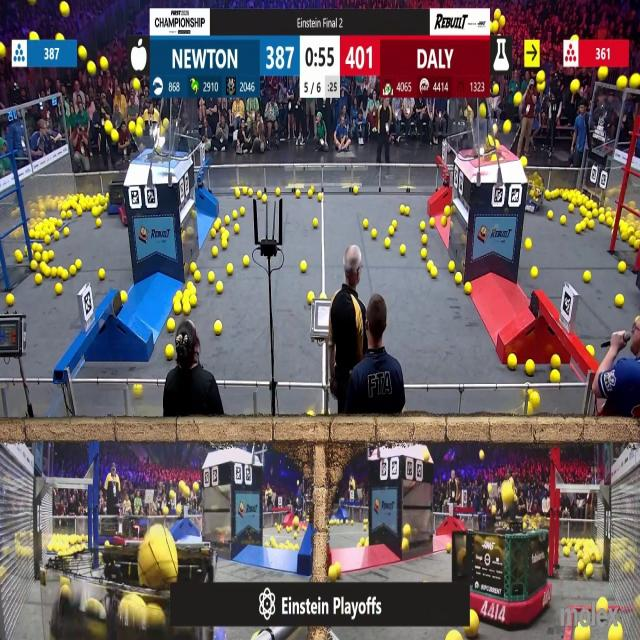ball_airborne: (501, 481, 513, 504), (598, 67, 608, 80), (630, 74, 639, 88), (619, 75, 628, 88), (61, 2, 70, 15), (422, 448, 430, 462), (515, 94, 523, 107), (78, 46, 86, 59), (101, 58, 108, 72), (570, 80, 578, 92), (89, 62, 97, 74), (503, 119, 510, 132), (130, 120, 137, 133), (480, 104, 487, 117), (105, 119, 112, 132), (491, 23, 499, 34), (111, 131, 118, 143), (536, 72, 544, 82), (0, 43, 6, 56), (183, 486, 190, 497), (30, 32, 38, 41), (136, 127, 143, 137), (492, 86, 499, 96), (134, 78, 140, 89), (176, 503, 182, 514), (536, 83, 544, 91), (522, 158, 528, 168), (192, 483, 198, 493), (480, 451, 486, 461), (164, 505, 170, 515), (153, 110, 159, 120), (488, 138, 495, 146), (137, 118, 144, 126), (57, 34, 64, 42), (494, 9, 500, 18), (492, 126, 498, 135), (500, 15, 505, 25), (170, 491, 176, 499), (492, 505, 497, 514), (164, 118, 169, 126), (488, 484, 492, 494), (495, 140, 500, 148), (144, 110, 148, 120), (29, 0, 36, 5), (492, 154, 496, 162), (162, 128, 166, 136)
ball_ground: (328, 565, 338, 580), (608, 628, 620, 640), (530, 392, 540, 406), (574, 628, 586, 639), (552, 354, 561, 368), (551, 371, 561, 383), (510, 354, 518, 369), (526, 360, 534, 374), (166, 346, 174, 360), (598, 598, 607, 610), (617, 293, 625, 306), (586, 564, 594, 577), (40, 264, 48, 277), (402, 525, 410, 537), (70, 265, 78, 277), (62, 586, 70, 598), (168, 319, 175, 332), (214, 321, 221, 334), (584, 272, 592, 283), (182, 305, 190, 316), (620, 263, 627, 275), (6, 293, 13, 305), (531, 267, 538, 279), (455, 273, 462, 285), (464, 282, 471, 294), (189, 294, 196, 306), (35, 274, 42, 286), (31, 262, 38, 274), (401, 538, 408, 550), (595, 552, 602, 564), (420, 249, 428, 259), (174, 304, 182, 314), (208, 273, 215, 284), (15, 251, 22, 262), (525, 239, 532, 250), (62, 270, 69, 281), (216, 282, 222, 294), (120, 290, 126, 302), (99, 270, 106, 280), (243, 256, 250, 266), (449, 263, 456, 273), (299, 263, 306, 273), (226, 265, 232, 276), (50, 268, 56, 279), (76, 258, 82, 269), (628, 238, 636, 246), (34, 251, 41, 260), (57, 284, 63, 294), (399, 245, 405, 255), (308, 292, 314, 302), (193, 272, 199, 282), (212, 246, 218, 256), (370, 230, 376, 240), (430, 269, 436, 279), (313, 218, 319, 228), (189, 264, 195, 274), (221, 240, 227, 250), (526, 406, 532, 416), (48, 250, 54, 260), (577, 561, 583, 571), (42, 251, 48, 261), (214, 219, 220, 229), (606, 217, 612, 227), (587, 208, 593, 218), (584, 218, 590, 228), (182, 294, 188, 304), (445, 207, 451, 216), (64, 229, 70, 238), (422, 236, 428, 245), (211, 230, 217, 239), (386, 226, 392, 235), (579, 207, 585, 216), (588, 346, 594, 355), (564, 548, 570, 557), (427, 262, 433, 271), (599, 214, 605, 223), (76, 207, 82, 216), (592, 208, 598, 217), (547, 210, 552, 220), (575, 223, 580, 233), (363, 218, 368, 228), (186, 282, 192, 290), (240, 208, 246, 216), (236, 189, 242, 197), (589, 220, 595, 228), (429, 218, 435, 226), (93, 208, 99, 216), (176, 290, 182, 298), (317, 192, 323, 200), (67, 210, 73, 218), (256, 190, 262, 198), (222, 232, 228, 240), (385, 239, 390, 248), (421, 221, 426, 230), (399, 206, 404, 215), (443, 216, 448, 225), (406, 207, 411, 216), (544, 189, 549, 198), (568, 205, 574, 212), (276, 188, 282, 195), (320, 292, 326, 299), (308, 412, 314, 419), (561, 216, 566, 224), (224, 216, 229, 224), (97, 219, 102, 227), (234, 211, 239, 219), (309, 190, 314, 198), (392, 219, 397, 227), (248, 188, 253, 196), (56, 233, 61, 241), (359, 537, 364, 545), (236, 223, 240, 232), (353, 187, 358, 194), (32, 244, 37, 251), (183, 288, 188, 295), (577, 552, 582, 559), (363, 520, 368, 526), (561, 538, 566, 544), (295, 190, 299, 197), (264, 197, 268, 204), (320, 411, 324, 417)
goal: (465, 125, 524, 162), (130, 130, 189, 159)
robot_blue: (524, 171, 546, 212), (106, 184, 126, 215)
robot_red: (463, 521, 551, 626)
